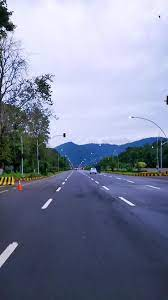straightRoad: (37, 172, 121, 258)
